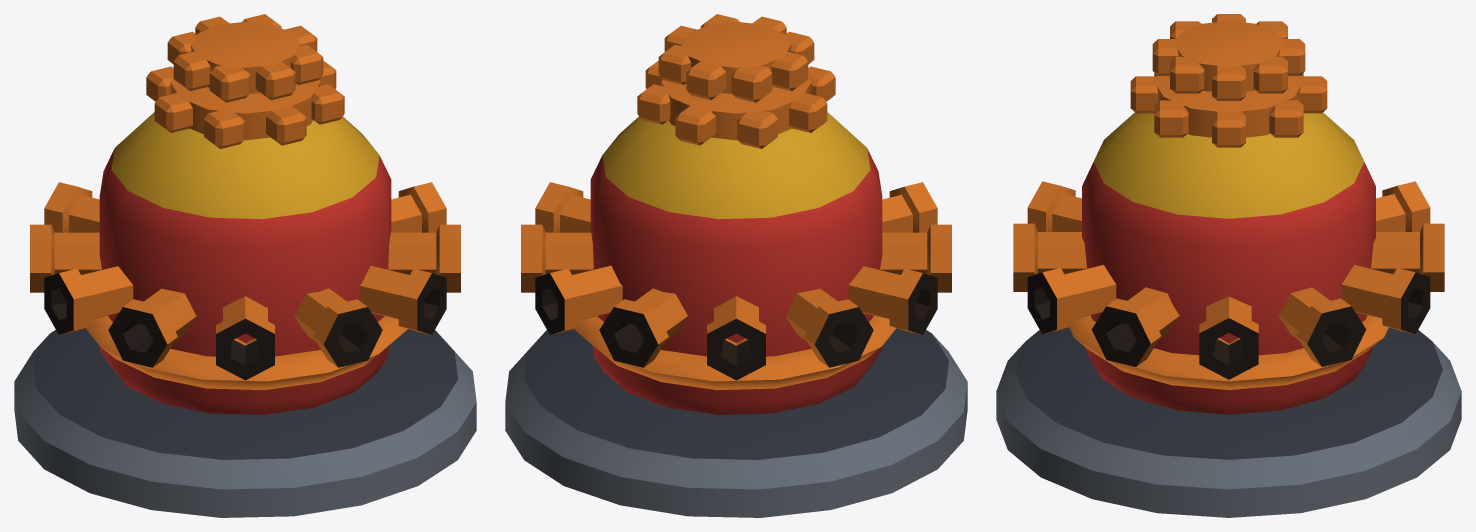
3 views of the same model, side by side, from view 1: azimuth 30°, elevation 25°; view 2: azimuth 150°, elevation 25°; view 3: azimuth 270°, elevation 25° (orthographic).
Parts seen in each view (by area): view 1: tachinha_1_torreta, tachinha_0_base; view 2: tachinha_1_torreta, tachinha_0_base; view 3: tachinha_1_torreta, tachinha_0_base.
Boxes of the visible parts, x1,y1,x2,y2 form: tachinha_1_torreta: (30,14,460,414); tachinha_0_base: (14,328,476,517); tachinha_1_torreta: (521,14,951,414); tachinha_0_base: (505,328,967,517); tachinha_1_torreta: (1013,14,1444,414); tachinha_0_base: (996,327,1461,517).
Size of the model in its own units: 0.68 by 0.615 by 0.68.
